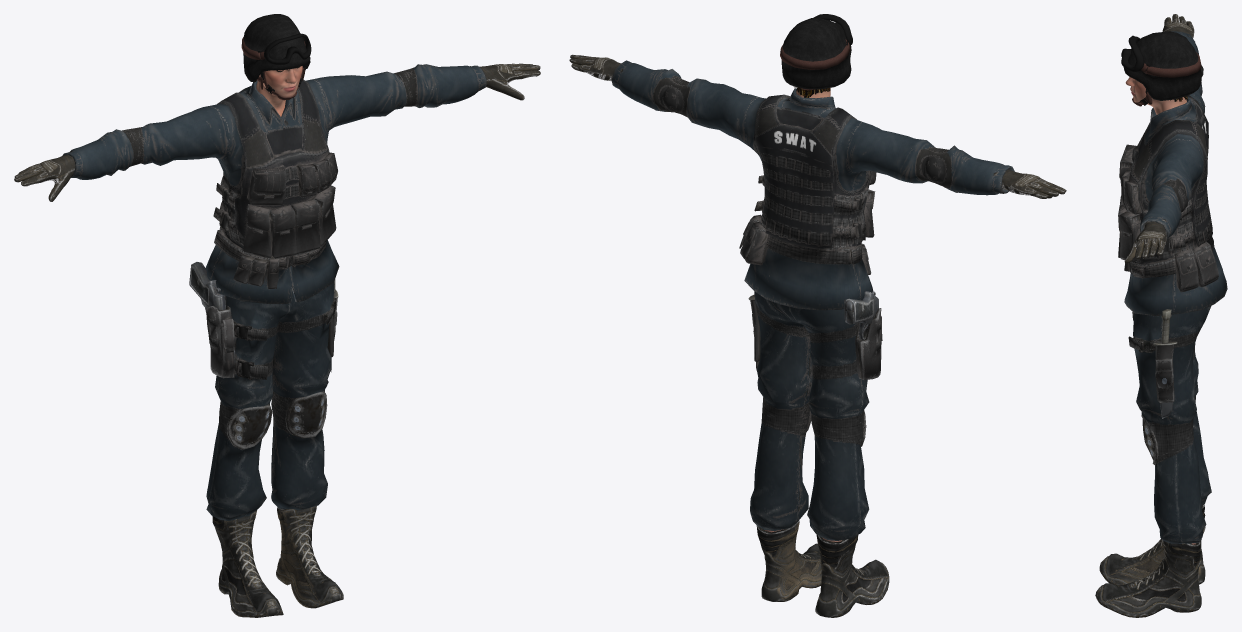
Rendered from GraceCombat-OBJ.obj.
3 renders of one model, left to right at view 1: azimuth 30°, elevation 25°; view 2: azimuth 150°, elevation 25°; view 3: azimuth 270°, elevation 25°, orthographic. The views are drawn at different scales.
Visible parts, largest first — view 1: Tops, Bottoms, Shoes, Hats, Gloves, Body; view 2: Tops, Bottoms, Shoes, Hats, Gloves; view 3: Tops, Bottoms, Shoes, Hats, Gloves, Body.
Part boxes in pixels (x1,y1,x2,y2): Tops: (62, 64, 486, 304); Bottoms: (189, 257, 338, 520); Shoes: (212, 506, 343, 617); Hats: (241, 14, 311, 100); Gloves: (14, 63, 540, 201); Body: (256, 66, 302, 116); Tops: (611, 60, 1014, 310); Bottoms: (748, 291, 882, 540); Shoes: (756, 520, 889, 617); Hats: (780, 14, 852, 90); Gloves: (569, 54, 1066, 198); Tops: (1118, 31, 1227, 316); Bottoms: (1128, 306, 1211, 543); Shoes: (1095, 504, 1205, 617); Hats: (1121, 31, 1201, 106); Gloves: (1124, 14, 1194, 263); Body: (1125, 77, 1195, 544).
Size of the model in its own units: 176 by 190 by 40.45.
7 materials, 7 textured.
